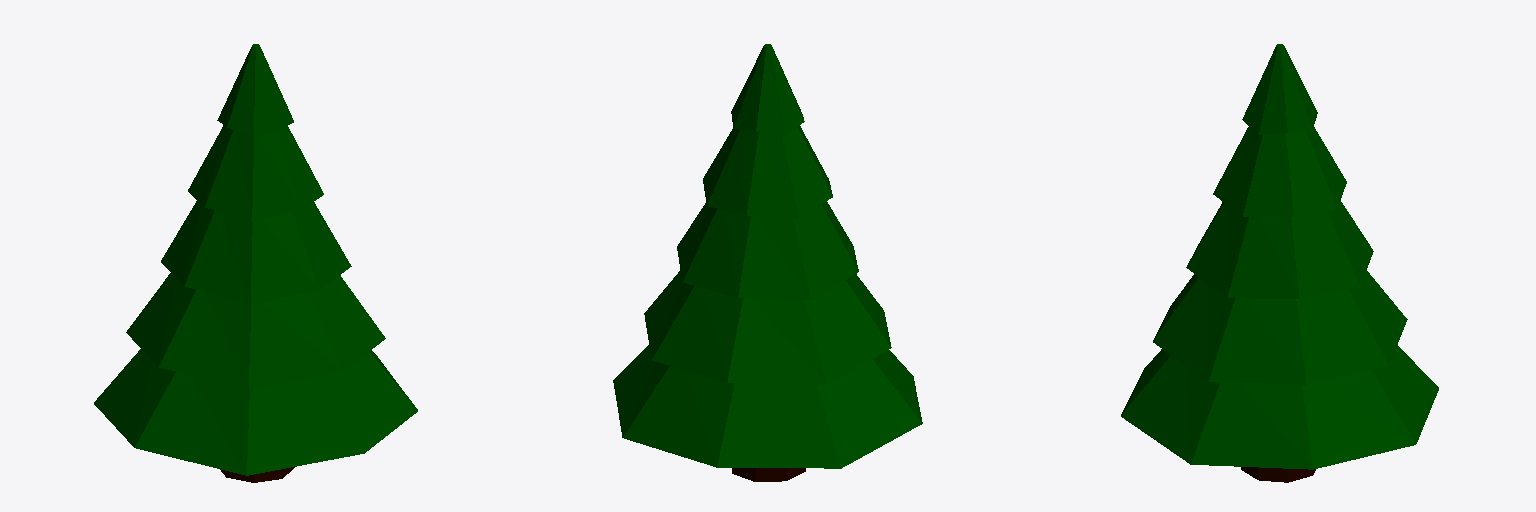
Rendered from pino.obj.
The picture shows the model from 3 angles: view 1: azimuth 30°, elevation 25°; view 2: azimuth 150°, elevation 25°; view 3: azimuth 270°, elevation 25°; orthographic projection.
Parts seen in each view (by area): view 1: Cylinder.138_Cylinder.187; view 2: Cylinder.138_Cylinder.187; view 3: Cylinder.138_Cylinder.187.
Boxes of the visible parts, <box> form: Cylinder.138_Cylinder.187: <box>94,44,417,482</box>; Cylinder.138_Cylinder.187: <box>613,44,922,481</box>; Cylinder.138_Cylinder.187: <box>1121,44,1438,482</box>.
Bounding box in the file's own units: 4.82 × 7.02 × 4.82.